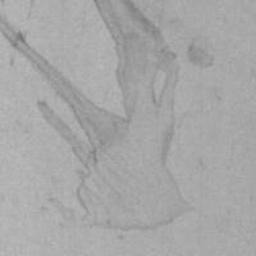Water spot: (0, 1, 196, 232), (188, 35, 214, 68)
